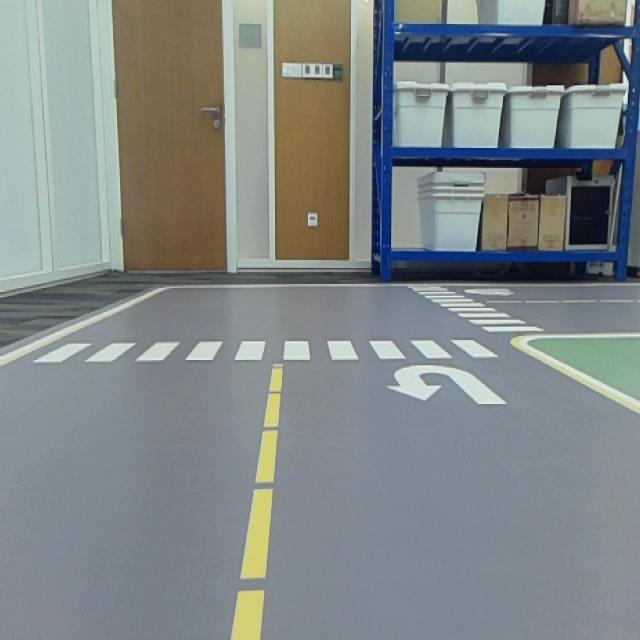left_lane: (232, 360, 283, 640)
right_lane: (0, 286, 165, 367), (511, 340, 640, 416)
